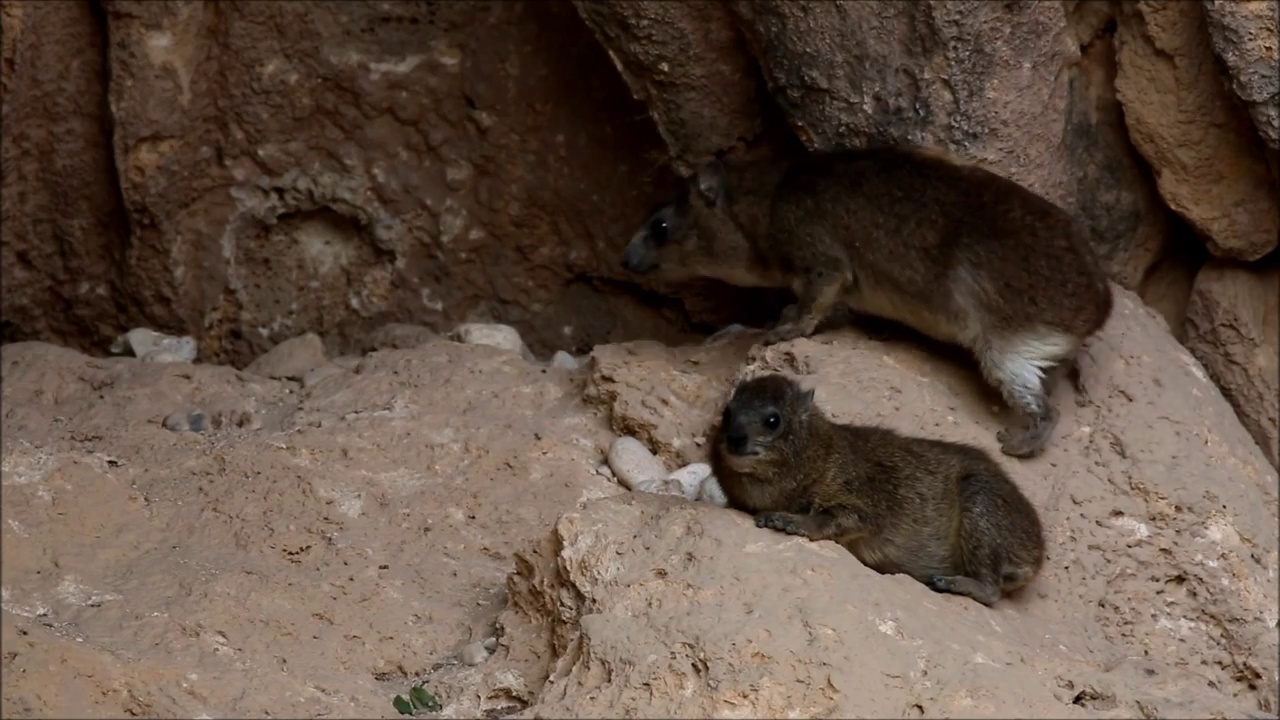Rock Hyrex: (622, 153, 1116, 459), (711, 375, 1046, 611)
